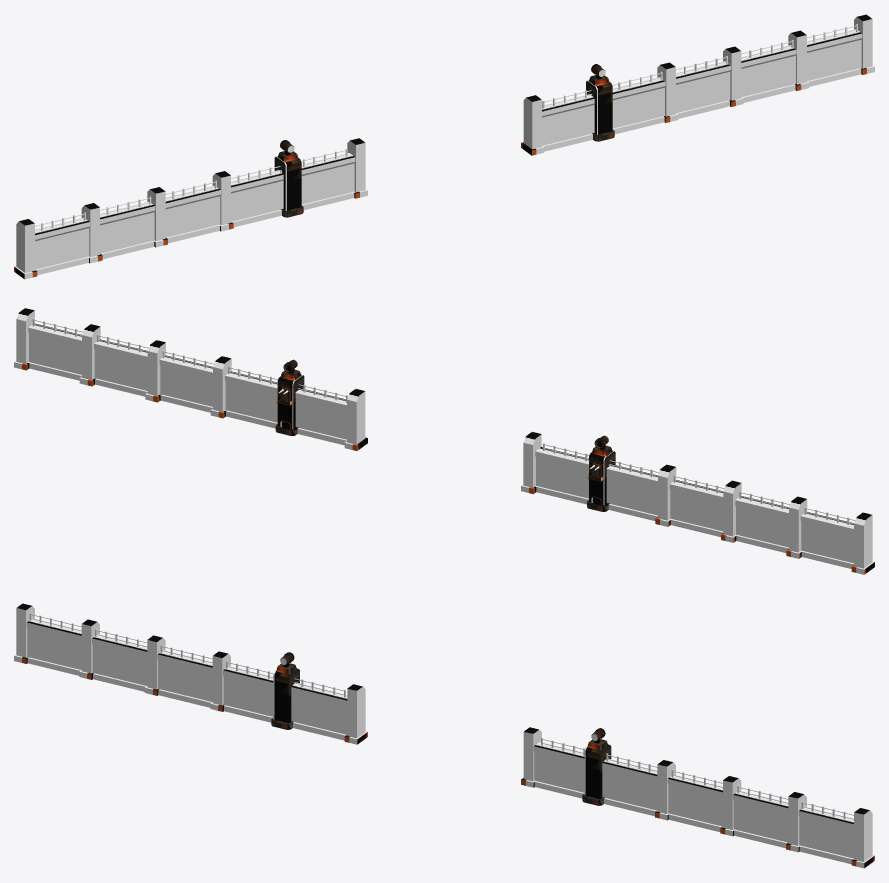
The model's file is chengqiang_02.fbx.
3 views of the same model, one above another, from view 1: azimuth 30°, elevation 25°; view 2: azimuth 150°, elevation 25°; view 3: azimuth 330°, elevation 25° (orthographic).
Visible parts, largest first — view 1: chengqiang_02; view 2: chengqiang_02; view 3: chengqiang_02.
Boxes of the visible parts, x1,y1,x2,y2 form: chengqiang_02: (14,14,874,279); chengqiang_02: (14,308,874,574); chengqiang_02: (14,603,874,868).
Size of the model in its own units: 11565 by 393 by 888.
